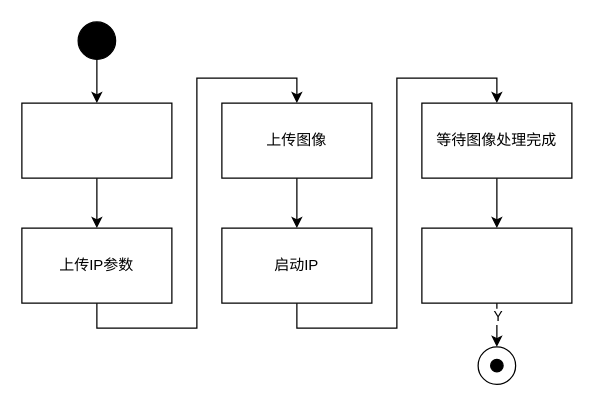
Some shapes in this 594 by 406 pixel diagram are drawn without their labels. The box of each missing label's shape, as (x1, y1, x2, y2) in pixels:
下载图像: (421, 227, 572, 303)
连接FPGA 网络服务器: (21, 102, 172, 178)
